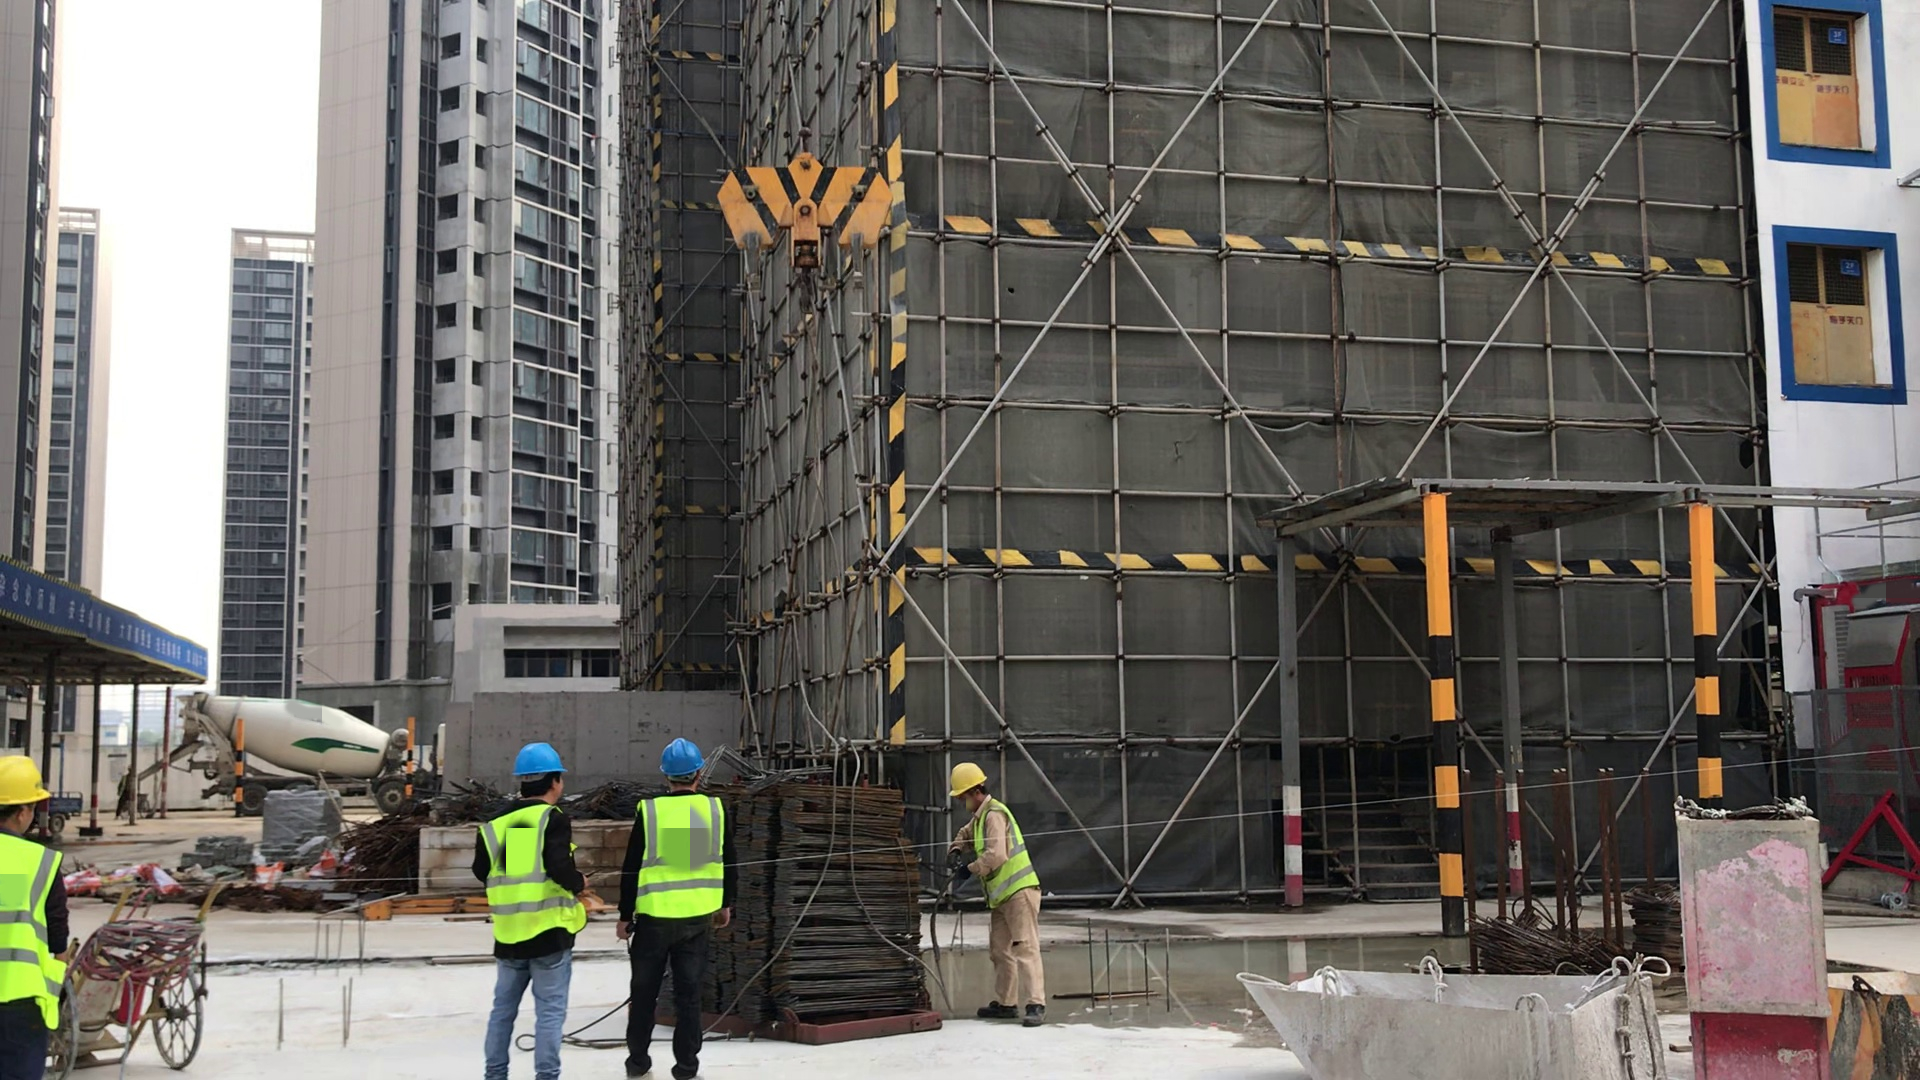handcart: (73, 885, 232, 1080), (136, 792, 151, 818)
helmet: (1, 756, 53, 807), (514, 747, 566, 780), (661, 744, 710, 778), (949, 764, 989, 799)
hook: (703, 146, 895, 302)
hopper: (1233, 948, 1702, 1080), (1828, 968, 1918, 1080)
person: (470, 743, 616, 1080), (618, 741, 732, 1080), (936, 761, 1056, 1030), (4, 749, 72, 1080), (114, 763, 127, 820)
slogan: (1, 556, 211, 685)
vest: (477, 802, 592, 947), (2, 830, 71, 1034), (636, 790, 724, 924), (971, 803, 1041, 912)
